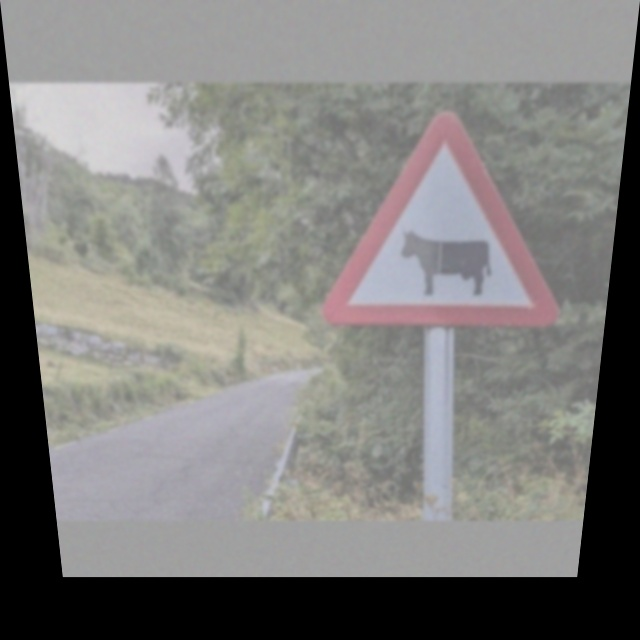Cattle: (338, 109, 570, 334)
